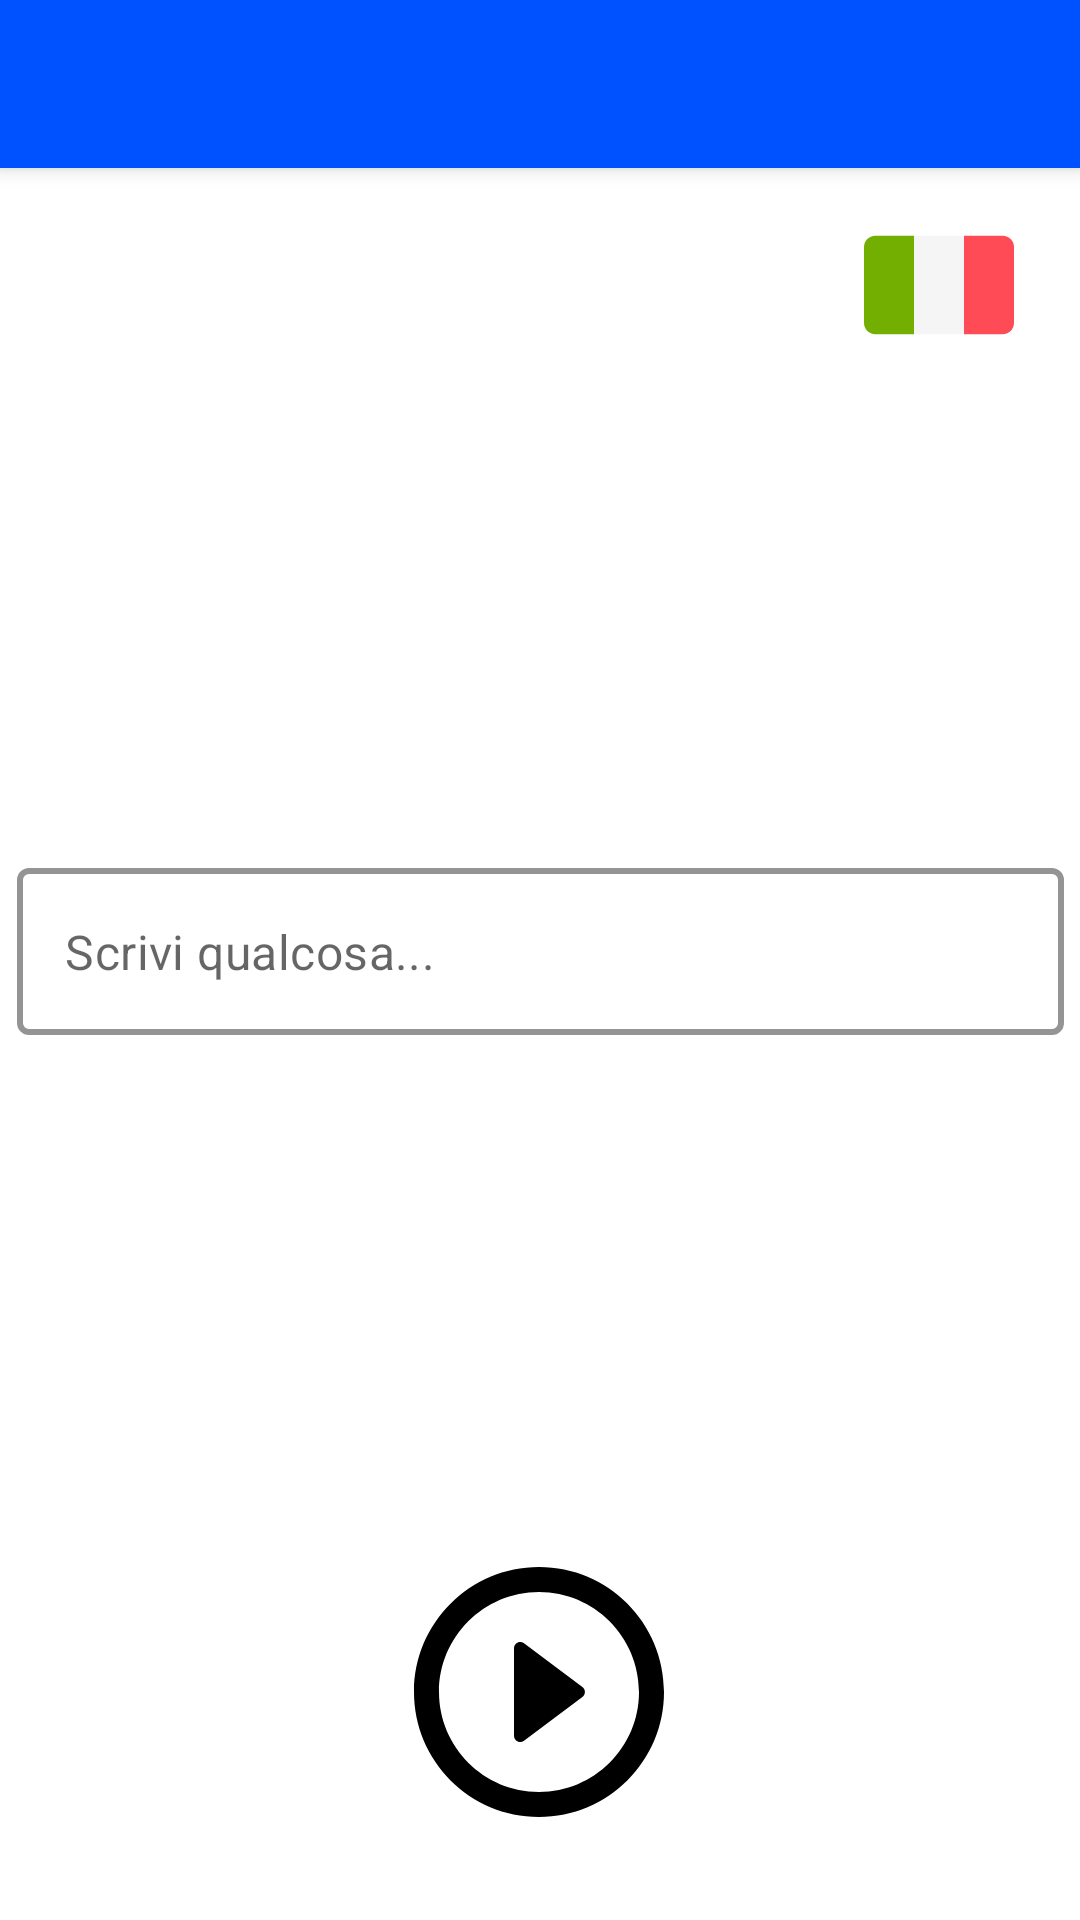

Where to tap for icons on this 1080×1920 app screen, as (x=x, y=y):
ita button: (x=939, y=285)
play button: (x=539, y=1692)
